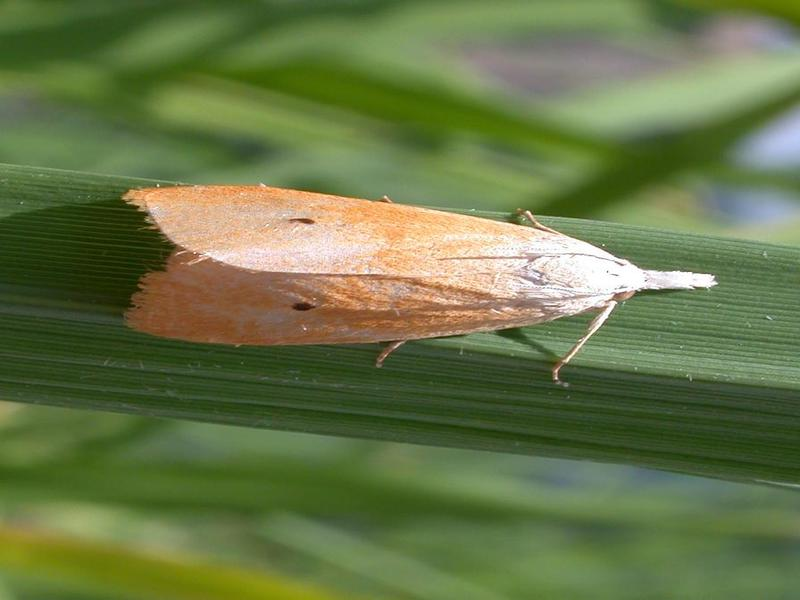Rice_earhead_bug: (82, 170, 738, 403)
